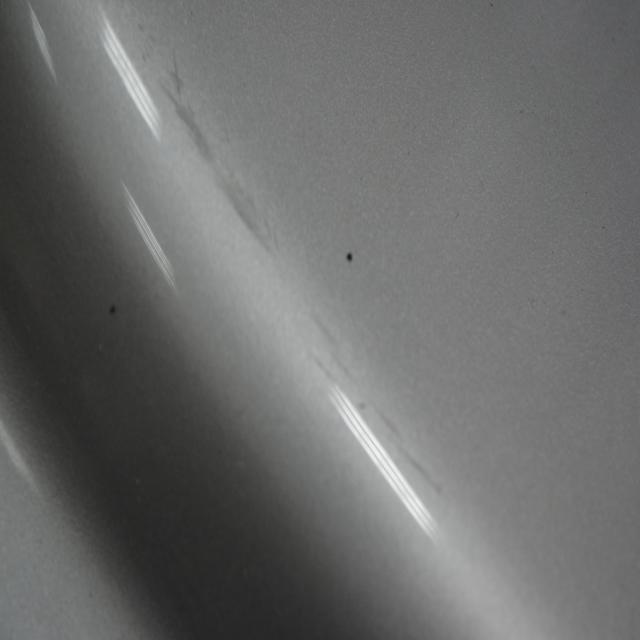dirt: (103, 298, 119, 321), (342, 247, 356, 264)
water marks: (136, 21, 286, 268), (303, 302, 449, 505)
